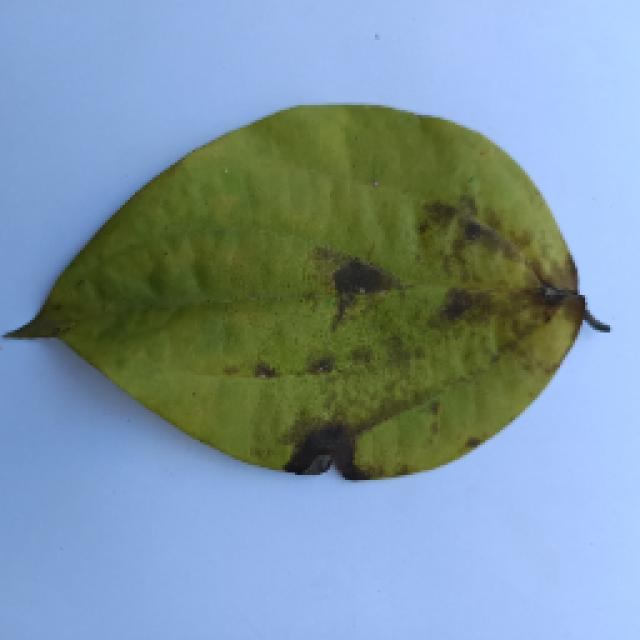slow-decline: (0, 98, 615, 482)
